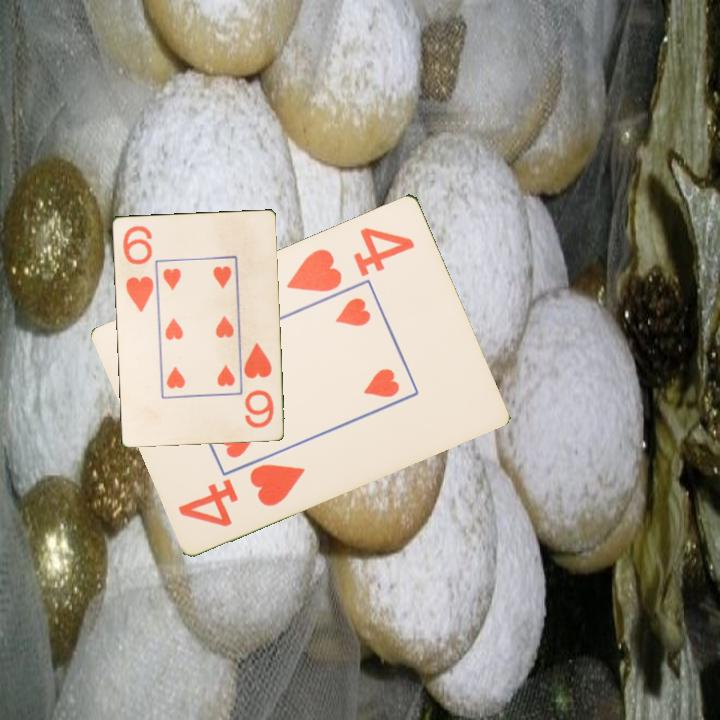4h: (283, 223, 418, 295), (174, 459, 309, 530)
6h: (117, 222, 156, 315), (240, 339, 276, 431)
